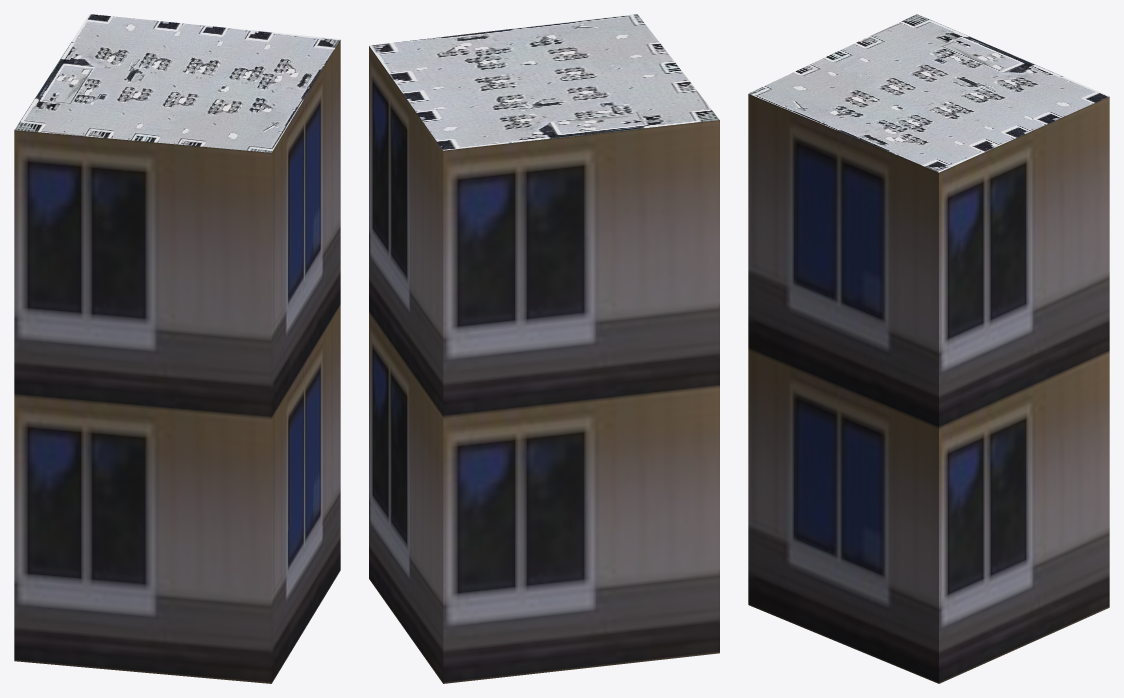
Rendered from ResTex__245.fbx.
The picture shows the model from 3 angles, left to right: view 1: azimuth 30°, elevation 25°; view 2: azimuth 150°, elevation 25°; view 3: azimuth 270°, elevation 25°; orthographic projection. The views are drawn at different scales.
Parts seen in each view (by area): view 1: CityEngineMaterial_5_m, CityEngineMaterial_m; view 2: CityEngineMaterial_5_m, CityEngineMaterial_m; view 3: CityEngineMaterial_5_m, CityEngineMaterial_m.
Part boxes in pixels (x1=…): CityEngineMaterial_5_m: x1=14, y1=40, x2=340, y2=683; CityEngineMaterial_m: x1=14, y1=14, x2=340, y2=152; CityEngineMaterial_5_m: x1=369, y1=46, x2=719, y2=683; CityEngineMaterial_m: x1=369, y1=14, x2=719, y2=150; CityEngineMaterial_5_m: x1=748, y1=94, x2=1109, y2=683; CityEngineMaterial_m: x1=748, y1=14, x2=1109, y2=172.
Size of the model in its own units: 3.99 by 6 by 3.85.
2 materials, 2 textured.
